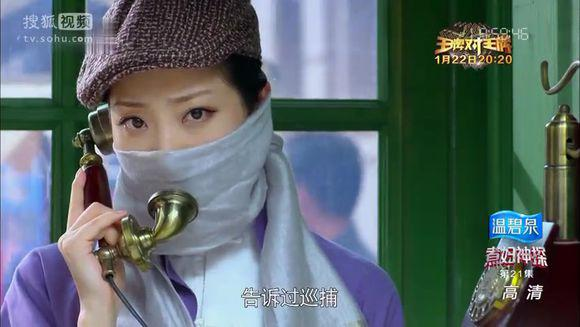WRONG: (112, 93, 241, 222)
